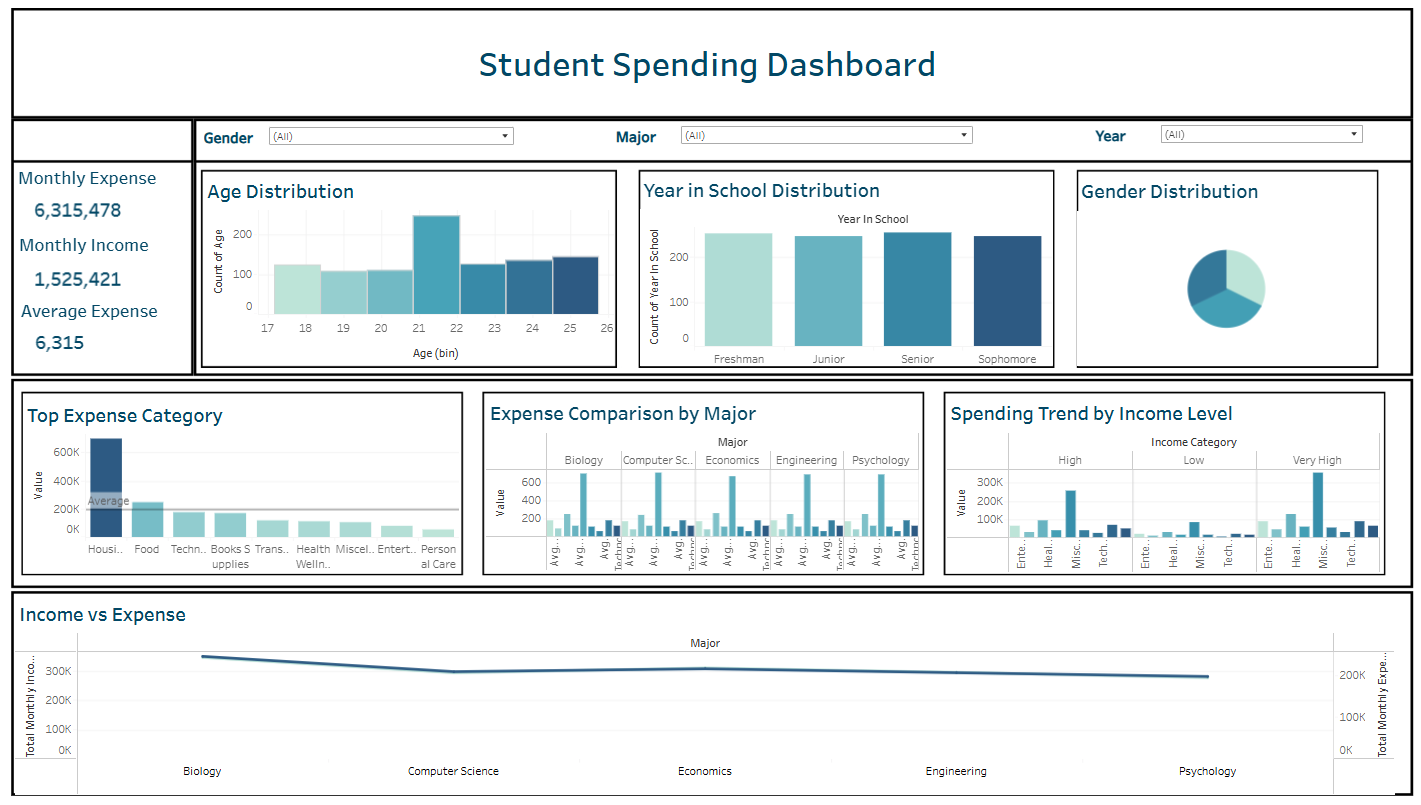

This screenshot's page, from the dashboard's own definition file:
{"tool":"tableau","page":{"name":"Dashboard 2","canvas":[1600,900],"ordinal":0},"visuals":[{"type":"image","param":"Image/Desain tanpa judul.png","box":[8,8,1584,884]},{"type":"text","box":[28,26,1534,95]},{"type":"filter","title":"Top Expense Category","param":"[federated.0eh855b0gyas1u1di1i7q03f7t03].[none:year_in_school:nk]","box":[1226,142,298,31]},{"type":"filter","title":"Year in School Distribution","param":"[federated.0eh855b0gyas1u1di1i7q03f7t03].[none:major:nk]","box":[693,143,398,28]},{"type":"filter","title":"Year in School Distribution","param":"[federated.0eh855b0gyas1u1di1i7q03f7t03].[none:gender:nk]","box":[235,144,346,31]},{"type":"text","box":[29,185,160,30]},{"type":"worksheet","title":"Year in School Distribution","mark":"Automatic","rows":["year_in_school"],"cols":["year_in_school"],"box":[720,192,458,218]},{"type":"worksheet","title":"Age Distribution","mark":"Automatic","rows":["age"],"cols":["Age (bin)"],"box":[235,193,456,216]},{"type":"worksheet","title":"Gender Distribution","mark":"Pie","box":[1206,194,331,216]},{"type":"worksheet","title":"Monthly Expense","mark":"Automatic","box":[27,216,130,40]},{"type":"text","box":[30,259,156,30]},{"type":"worksheet","title":"Total Monthly Income","mark":"Automatic","box":[27,297,181,30]},{"type":"text","box":[32,332,158,30]},{"type":"worksheet","title":"Average Mothly Expense","mark":"Automatic","box":[26,364,133,37]},{"type":"worksheet","title":"Expense Comparison by Major ","mark":"Automatic","cols":["major"],"box":[549,440,481,199]},{"type":"worksheet","title":"Spending Trend by Income Level","mark":"Automatic","cols":["Calculation_1205557335144751117"],"box":[1061,440,482,201]},{"type":"worksheet","title":"Top Expense Category","mark":"Automatic","box":[35,442,484,198]},{"type":"worksheet","title":"Income vs Expense","mark":"Line","rows":["Calculation_1205557335127105539","Calculation_1205557335134584839"],"cols":["major"],"box":[26,663,1533,224]}]}

Visuals, with their boxes in screenshot pixels (x1, y1, x2, y2), scaled from the page's 1600x900 canvas onto the 1421x805 screenshot:
image: crop(7, 7, 1414, 798)
text: crop(25, 23, 1387, 108)
"Top Expense Category" filter: crop(1089, 127, 1354, 155)
"Year in School Distribution" filter: crop(615, 128, 969, 153)
"Year in School Distribution" filter: crop(209, 129, 516, 157)
text: crop(26, 165, 168, 192)
"Year in School Distribution" worksheet: crop(639, 172, 1046, 367)
"Age Distribution" worksheet: crop(209, 173, 614, 366)
"Gender Distribution" worksheet (Pie marks): crop(1071, 174, 1365, 367)
"Monthly Expense" worksheet: crop(24, 193, 139, 229)
text: crop(27, 232, 165, 258)
"Total Monthly Income" worksheet: crop(24, 266, 185, 292)
text: crop(28, 297, 169, 324)
"Average Mothly Expense" worksheet: crop(23, 326, 141, 359)
"Expense Comparison by Major " worksheet: crop(488, 394, 915, 572)
"Spending Trend by Income Level" worksheet: crop(942, 394, 1370, 573)
"Top Expense Category" worksheet: crop(31, 395, 461, 572)
"Income vs Expense" worksheet (Line marks): crop(23, 593, 1385, 793)
